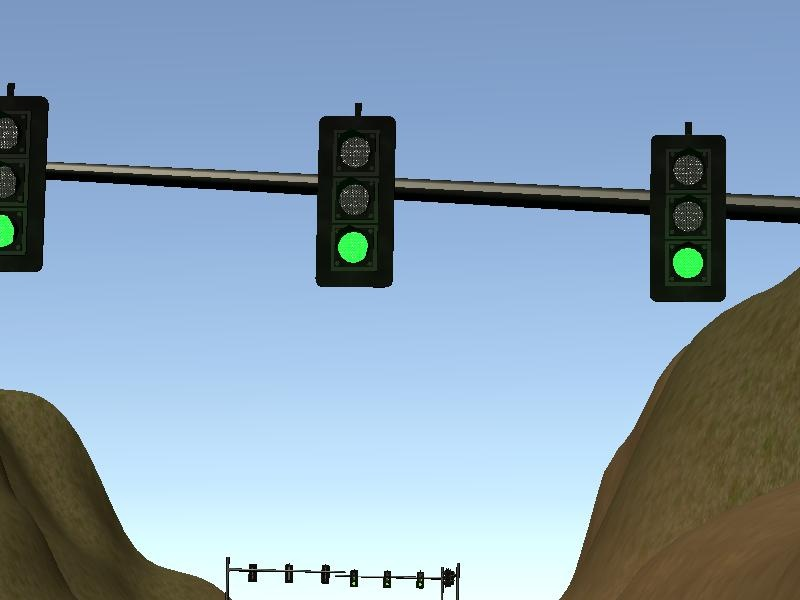green: (648, 133, 726, 304), (318, 113, 394, 284), (1, 98, 48, 274)
